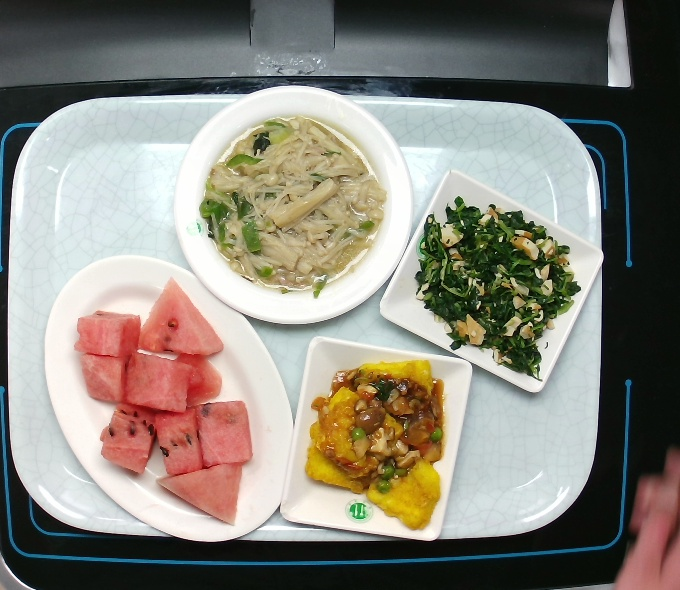wcq-CuiPiDouFu: (301, 354, 447, 533)
wcq-JinZhenGu: (200, 114, 386, 293)
wcq-MaLanTouChaoDouGan: (411, 191, 586, 379)
wcq-XiGua: (71, 274, 257, 529)
